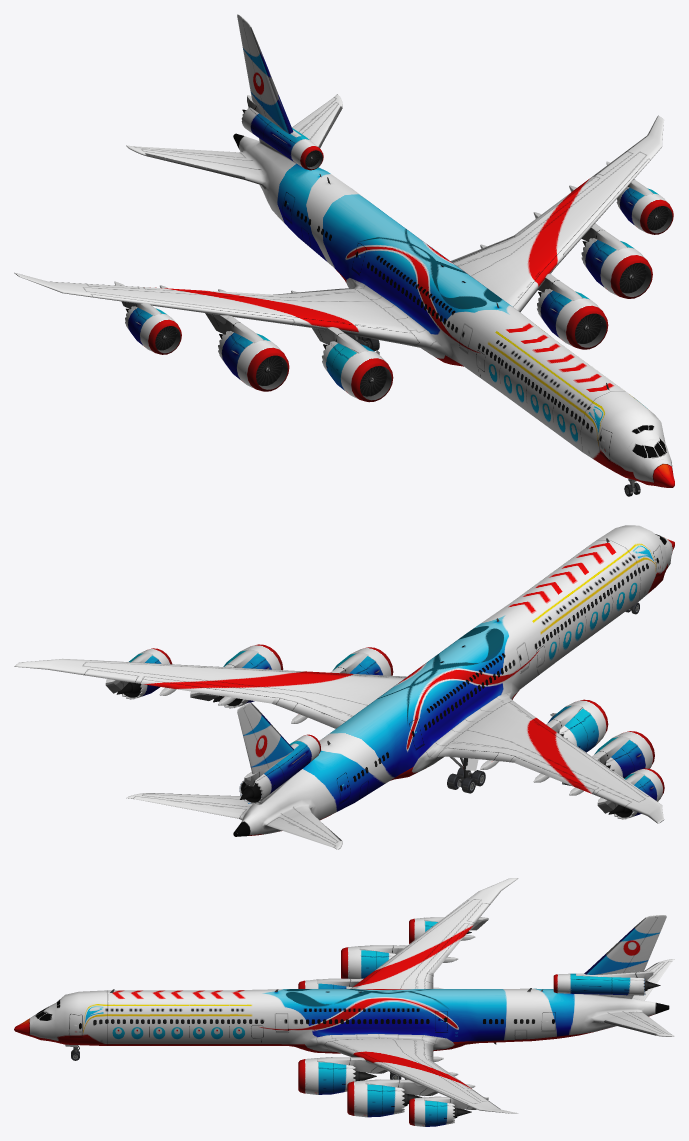
The model's file is Boeingsam-3.FBX.
3 renders of one model, top to bottom at view 1: azimuth 30°, elevation 25°; view 2: azimuth 150°, elevation 25°; view 3: azimuth 270°, elevation 25°, orthographic. The views are drawn at different scales.
Visible parts, largest first — view 1: samboeing, engine, engine001; view 2: samboeing, engine, engine001, mleftwing, bwing, Bleftwing, aileron, mrightwing, brightwing; view 3: samboeing, engine, engine001, bwing, mrightwing.
Part boxes in pixels (x1,y1,x2,y2): samboeing: [14, 17, 674, 487]; engine: [114, 161, 673, 402]; engine001: [241, 95, 323, 170]; samboeing: [14, 525, 674, 849]; engine: [105, 644, 664, 819]; engine001: [239, 734, 320, 804]; mleftwing: [140, 679, 276, 703]; bwing: [237, 706, 266, 773]; Bleftwing: [133, 796, 245, 818]; aileron: [159, 687, 583, 795]; mrightwing: [514, 756, 594, 793]; brightwing: [267, 817, 335, 847]; samboeing: [14, 878, 674, 1113]; engine: [298, 917, 488, 1126]; engine001: [553, 971, 660, 995]; bwing: [625, 915, 666, 971]; mrightwing: [426, 923, 472, 973].
Size of the model in its own units: 2308 by 662 by 2738.
Materials: 1 (1 with a texture image).
